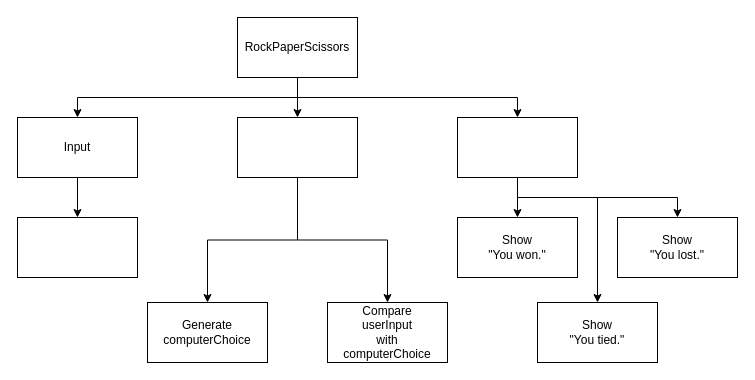
Some shapes in this 755 by 380 pixel diagram are drawn without their labels. The centre of each missing label's shape, as x and y in pixels:
Get userInput: the point at 77,247
Output: the point at 517,147
Process: the point at 297,147
